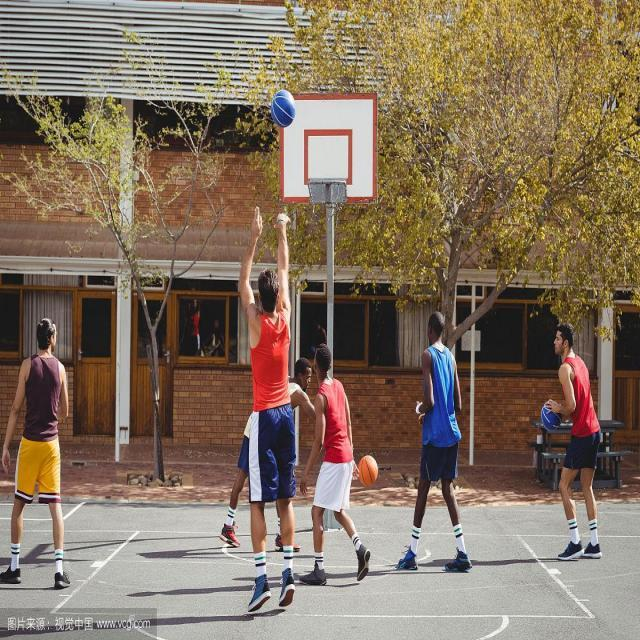rim: (271, 90, 297, 128), (542, 398, 564, 440), (359, 454, 379, 492)
